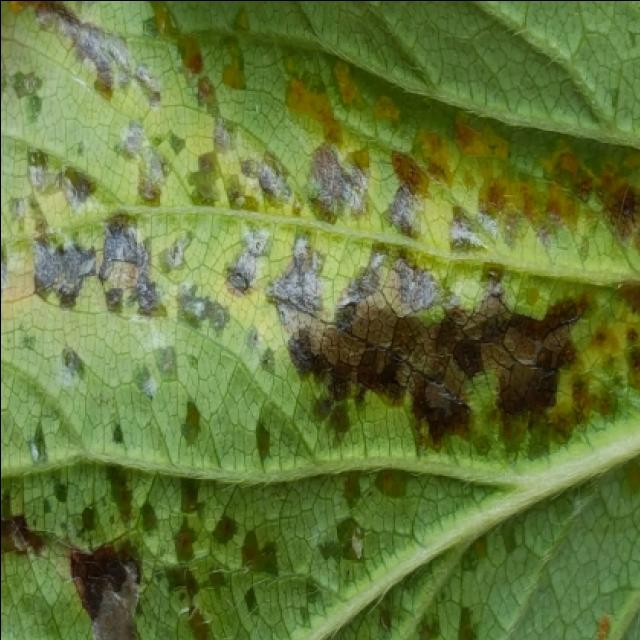Angular Leafspot: (2, 2, 640, 640)
